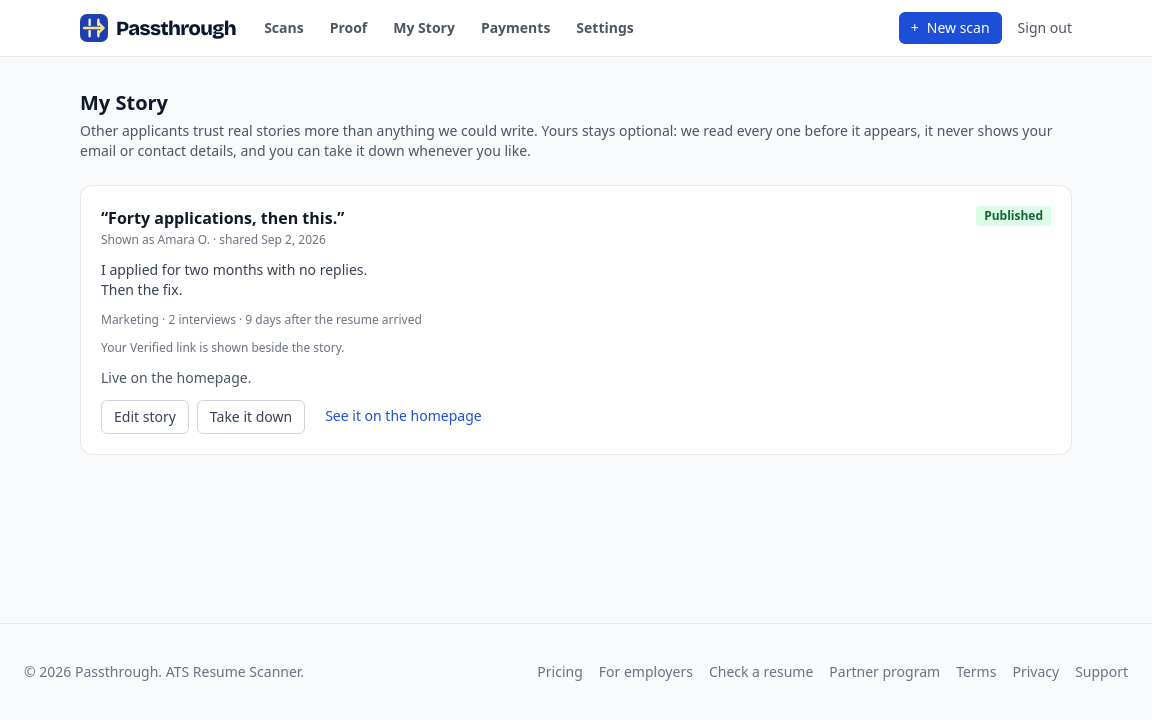
Scenario: My Story › a take-down that fails says so and keeps the story
The width and height of the screenshot is (1152, 720).
Click the button "Take it down".
click(251, 417)  # box [197,400,305,434]
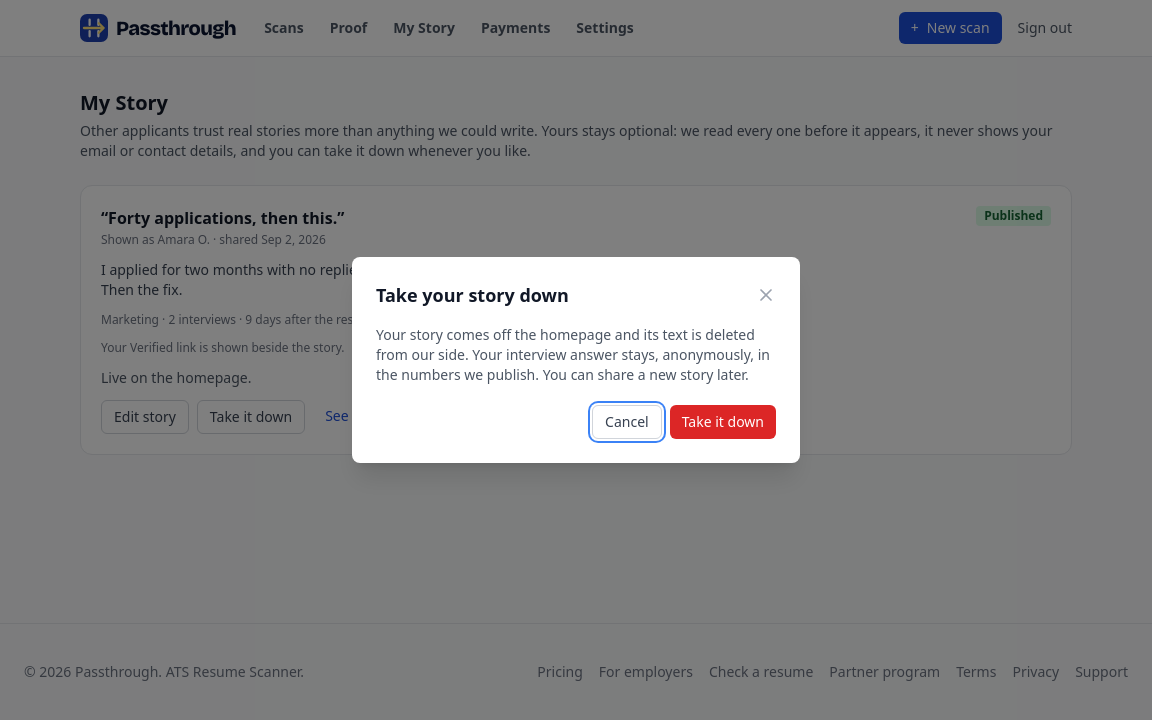
Click the button "Take it down".
click(723, 422)  # box [670,405,776,439]
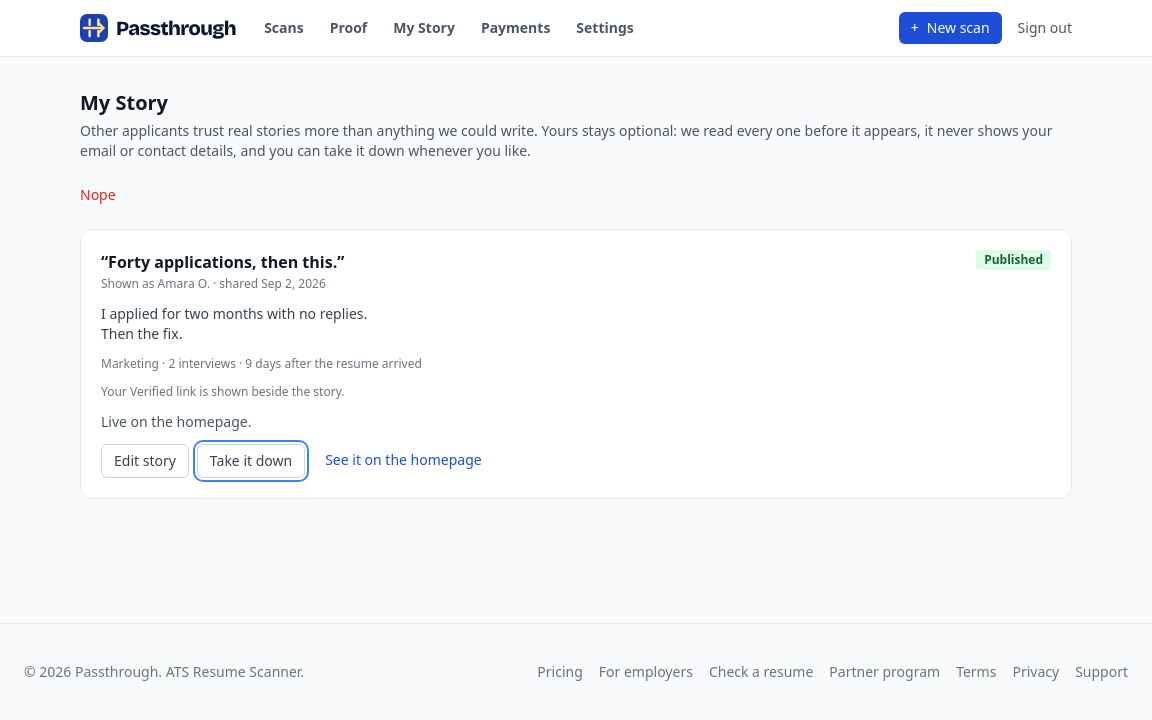
Expected: the text "“Forty applications, then this.”" is shown, [101,250,344,274]
Now the text "Nope" is shown, box [80,185,116,204]
